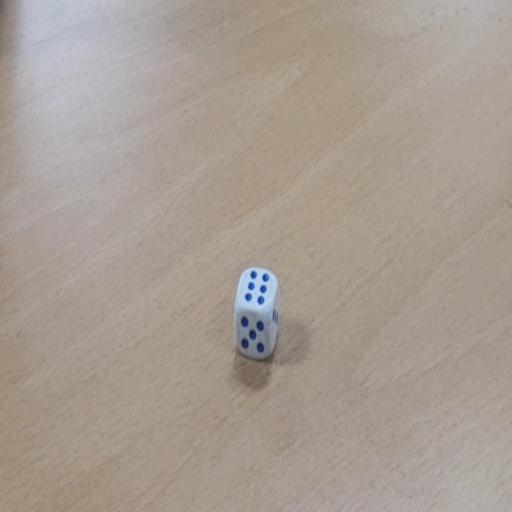dice_6: (233, 265, 280, 361)
